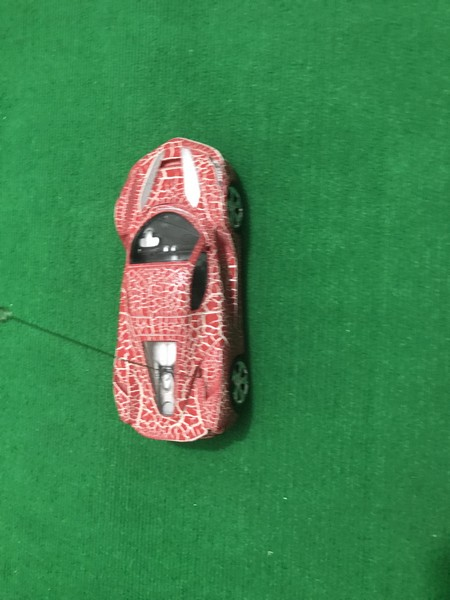RC: (109, 137, 255, 447)
